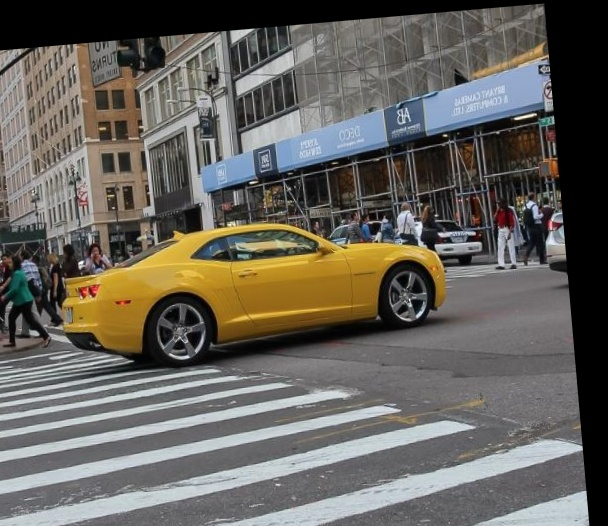car: (46, 200, 466, 384)
